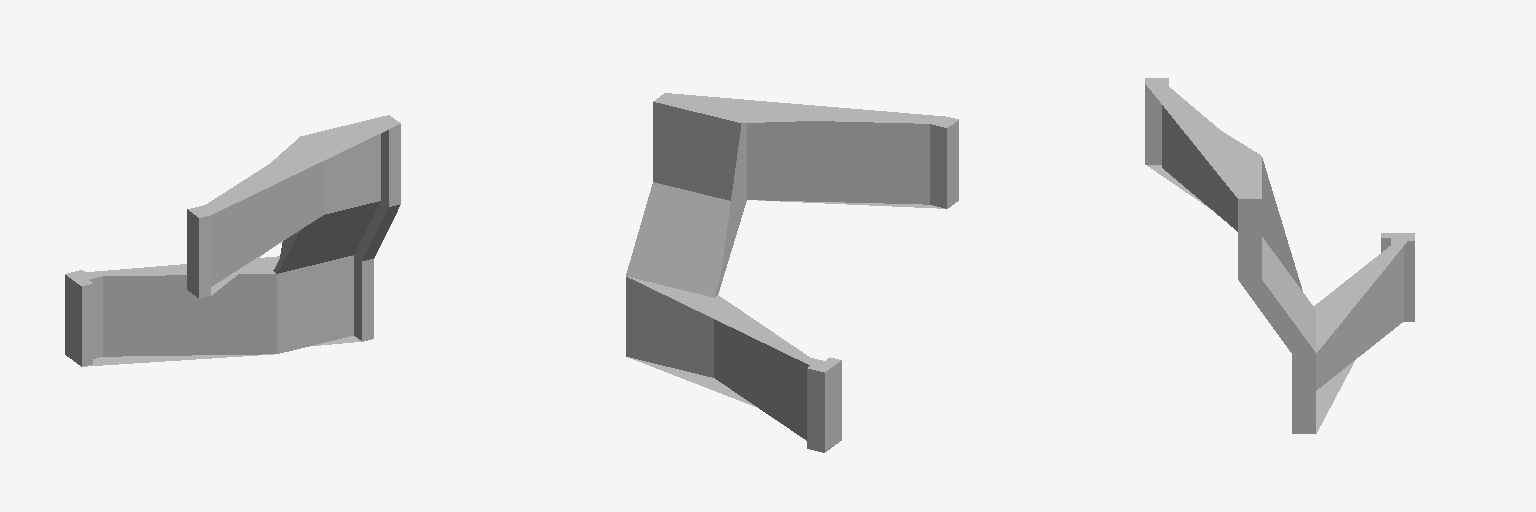
The model's file is Ban thang.obj.
3 renders of one model, left to right at view 1: azimuth 30°, elevation 25°; view 2: azimuth 150°, elevation 25°; view 3: azimuth 270°, elevation 25°, orthographic.
Visible parts, largest first — view 1: Mesh1 Banthang1 Model; view 2: Mesh1 Banthang1 Model; view 3: Mesh1 Banthang1 Model.
Boxes of the visible parts, box(x1,y1,x2,y2) form: Mesh1 Banthang1 Model: box(65, 115, 400, 366); Mesh1 Banthang1 Model: box(626, 93, 958, 452); Mesh1 Banthang1 Model: box(1145, 78, 1414, 433).
Size of the model in its own units: 4200 by 3800 by 3950.